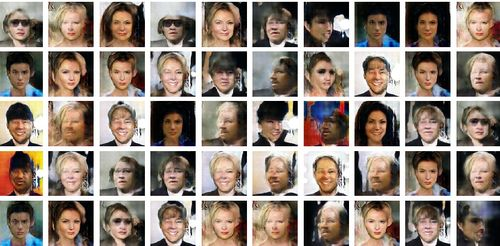nomask: (212, 153, 239, 190), (416, 57, 441, 93), (210, 8, 237, 41), (367, 158, 393, 192)
